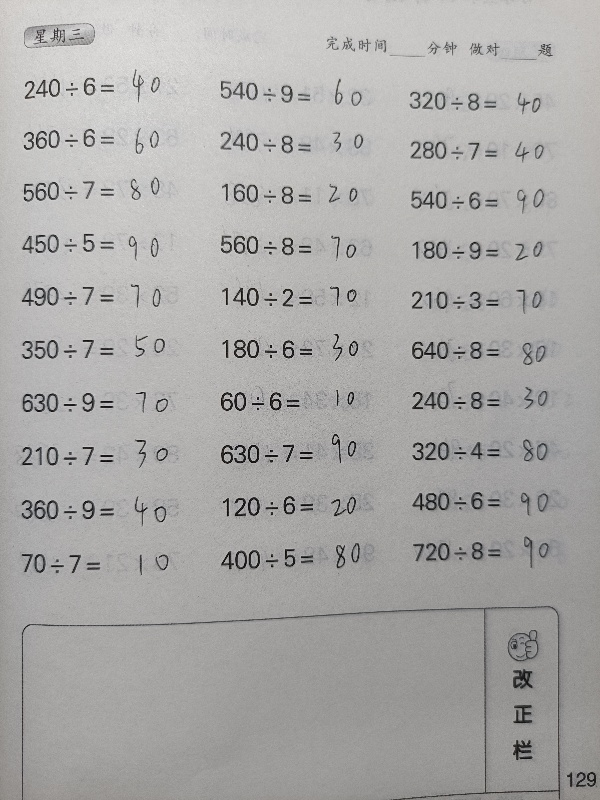equation: (13, 492, 193, 528), (14, 546, 194, 581), (211, 541, 391, 576), (214, 488, 394, 523), (14, 439, 194, 474), (212, 437, 392, 472), (14, 385, 194, 420), (212, 384, 392, 419), (213, 331, 393, 366), (14, 332, 194, 367), (14, 279, 194, 314), (211, 227, 391, 262), (14, 172, 194, 207), (15, 69, 195, 104), (404, 534, 584, 568), (403, 484, 583, 518), (404, 434, 584, 468), (404, 384, 584, 418), (213, 280, 393, 314), (13, 226, 193, 260), (403, 184, 583, 218), (212, 177, 392, 211), (402, 133, 582, 167), (212, 126, 392, 160), (14, 121, 194, 155), (401, 84, 581, 118), (211, 75, 391, 109), (403, 334, 583, 367), (403, 284, 583, 317), (404, 234, 584, 267)
